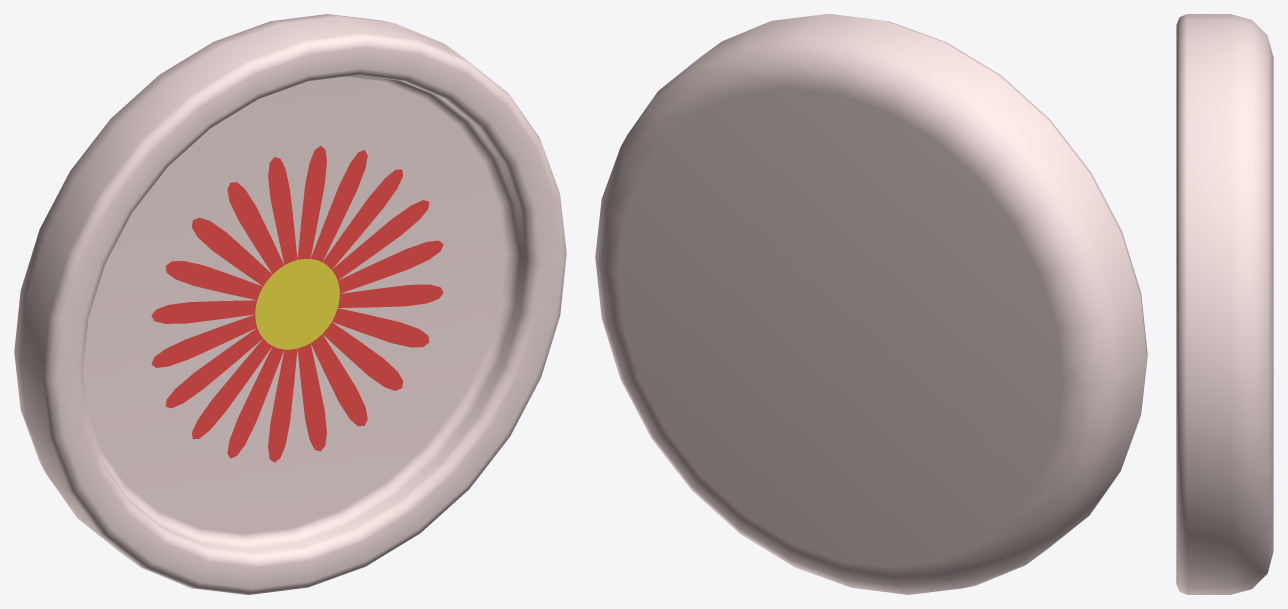
The model's file is City_12_Decor_Plate_3.glb.
The picture shows the model from 3 angles, left to right: view 1: azimuth 30°, elevation 25°; view 2: azimuth 150°, elevation 25°; view 3: azimuth 270°, elevation 25°; orthographic projection. The views are drawn at different scales.
Visible parts, largest first — view 1: City_12_Decor_Plate_3; view 2: City_12_Decor_Plate_3; view 3: City_12_Decor_Plate_3.
Boxes of the visible parts, left/top/right/bottom form: City_12_Decor_Plate_3: left=14, top=14, right=566, bottom=594; City_12_Decor_Plate_3: left=595, top=14, right=1147, bottom=594; City_12_Decor_Plate_3: left=1176, top=14, right=1273, bottom=594.
Bounding box in the file's own units: 0.5139 × 0.5139 × 0.0859.
Materials: 1 (1 with a texture image).
